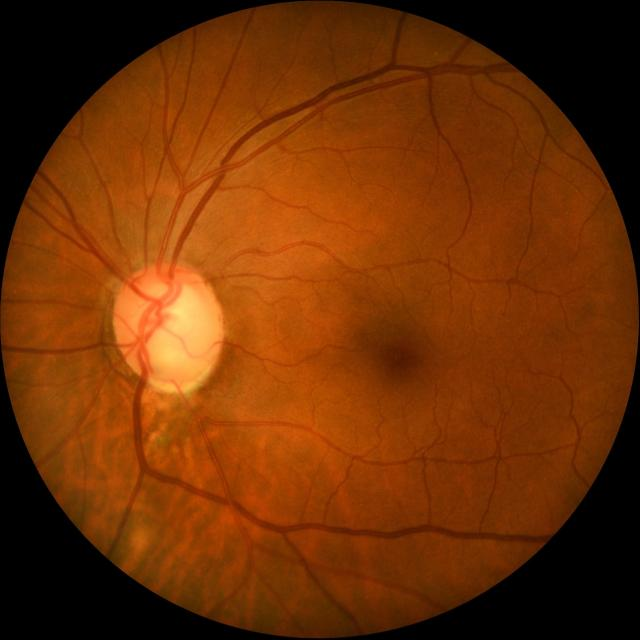OC: (133, 282, 208, 367)
OD: (113, 263, 223, 389)
